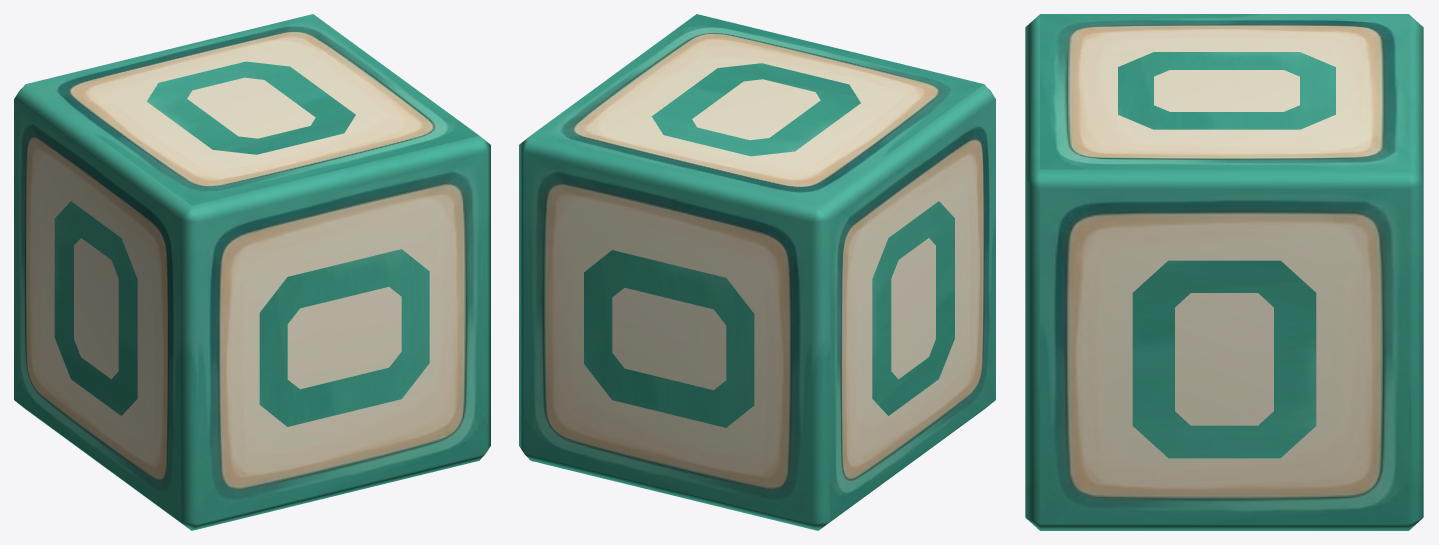
Rendered from CubeO.glb.
3 renders of one model, left to right at view 1: azimuth 30°, elevation 25°; view 2: azimuth 150°, elevation 25°; view 3: azimuth 270°, elevation 25°, orthographic. The views are drawn at different scales.
Visible parts, largest first — view 1: CubeO; view 2: CubeO; view 3: CubeO.
Boxes of the visible parts, left/top/right/bottom form: CubeO: left=14, top=14, right=490, bottom=530; CubeO: left=519, top=14, right=995, bottom=530; CubeO: left=1025, top=14, right=1423, bottom=530.
Size of what is drawn, in the model's own units: 0.513 by 0.513 by 0.513.
1 material, 1 textured.
